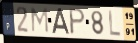2: (16, 6, 29, 34)
8: (90, 10, 106, 36)
A: (51, 8, 71, 36)
L: (108, 9, 122, 38)
M: (30, 7, 50, 35)
P: (68, 8, 87, 36)
